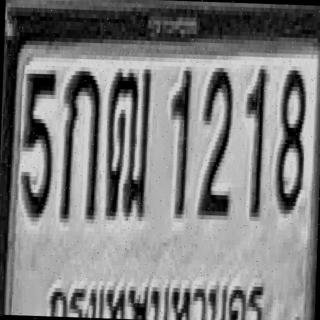A01: (59, 66, 100, 220)
A18: (104, 64, 151, 217)
N01: (242, 64, 267, 217), (167, 68, 192, 216)
N02: (197, 63, 234, 216)
N05: (20, 69, 57, 218)
N08: (274, 66, 306, 210)
